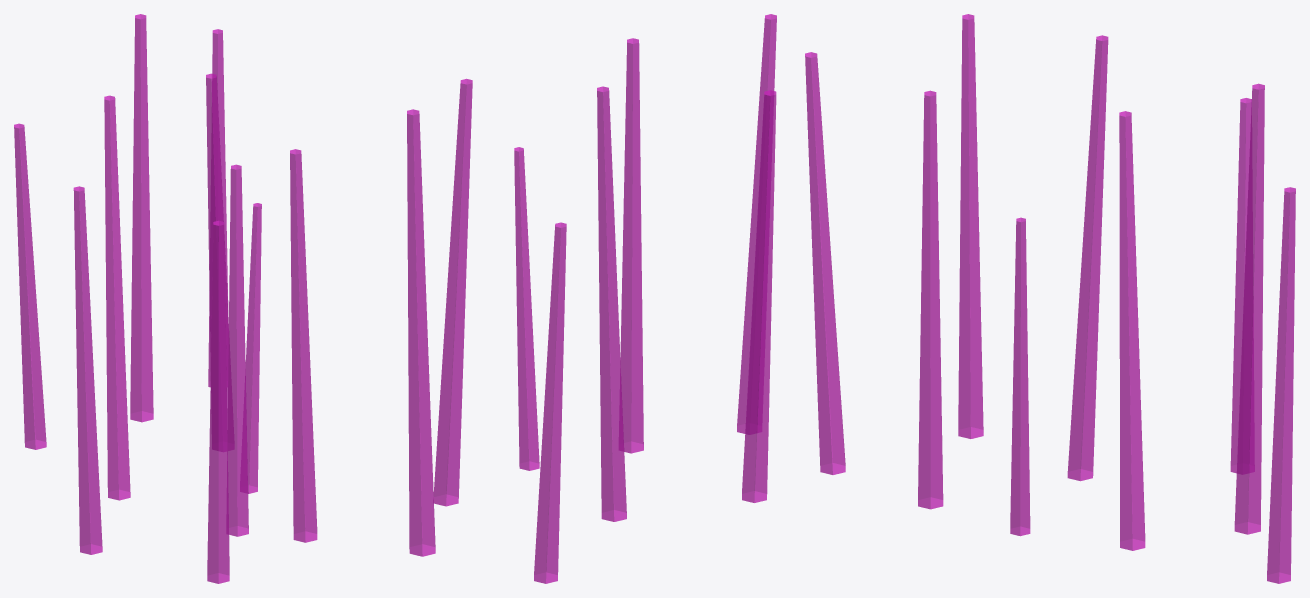
File: SM_Env_Tree_Pine_Group_01_Collision.fbx
The picture shows the model from 3 angles, left to right: view 1: azimuth 30°, elevation 25°; view 2: azimuth 150°, elevation 25°; view 3: azimuth 270°, elevation 25°; orthographic projection. The views are drawn at different scales.
Visible parts, largest first — view 1: SM_Env_Tree_Pine_Group_01_Collision; view 2: SM_Env_Tree_Pine_Group_01_Collision; view 3: SM_Env_Tree_Pine_Group_01_Collision.
Part boxes in pixels (x1,y1,x2,y2): SM_Env_Tree_Pine_Group_01_Collision: [14, 14, 261, 583]; SM_Env_Tree_Pine_Group_01_Collision: [290, 14, 776, 583]; SM_Env_Tree_Pine_Group_01_Collision: [805, 14, 1295, 583].
Size of the model in its own units: 985 by 1265 by 1268.
